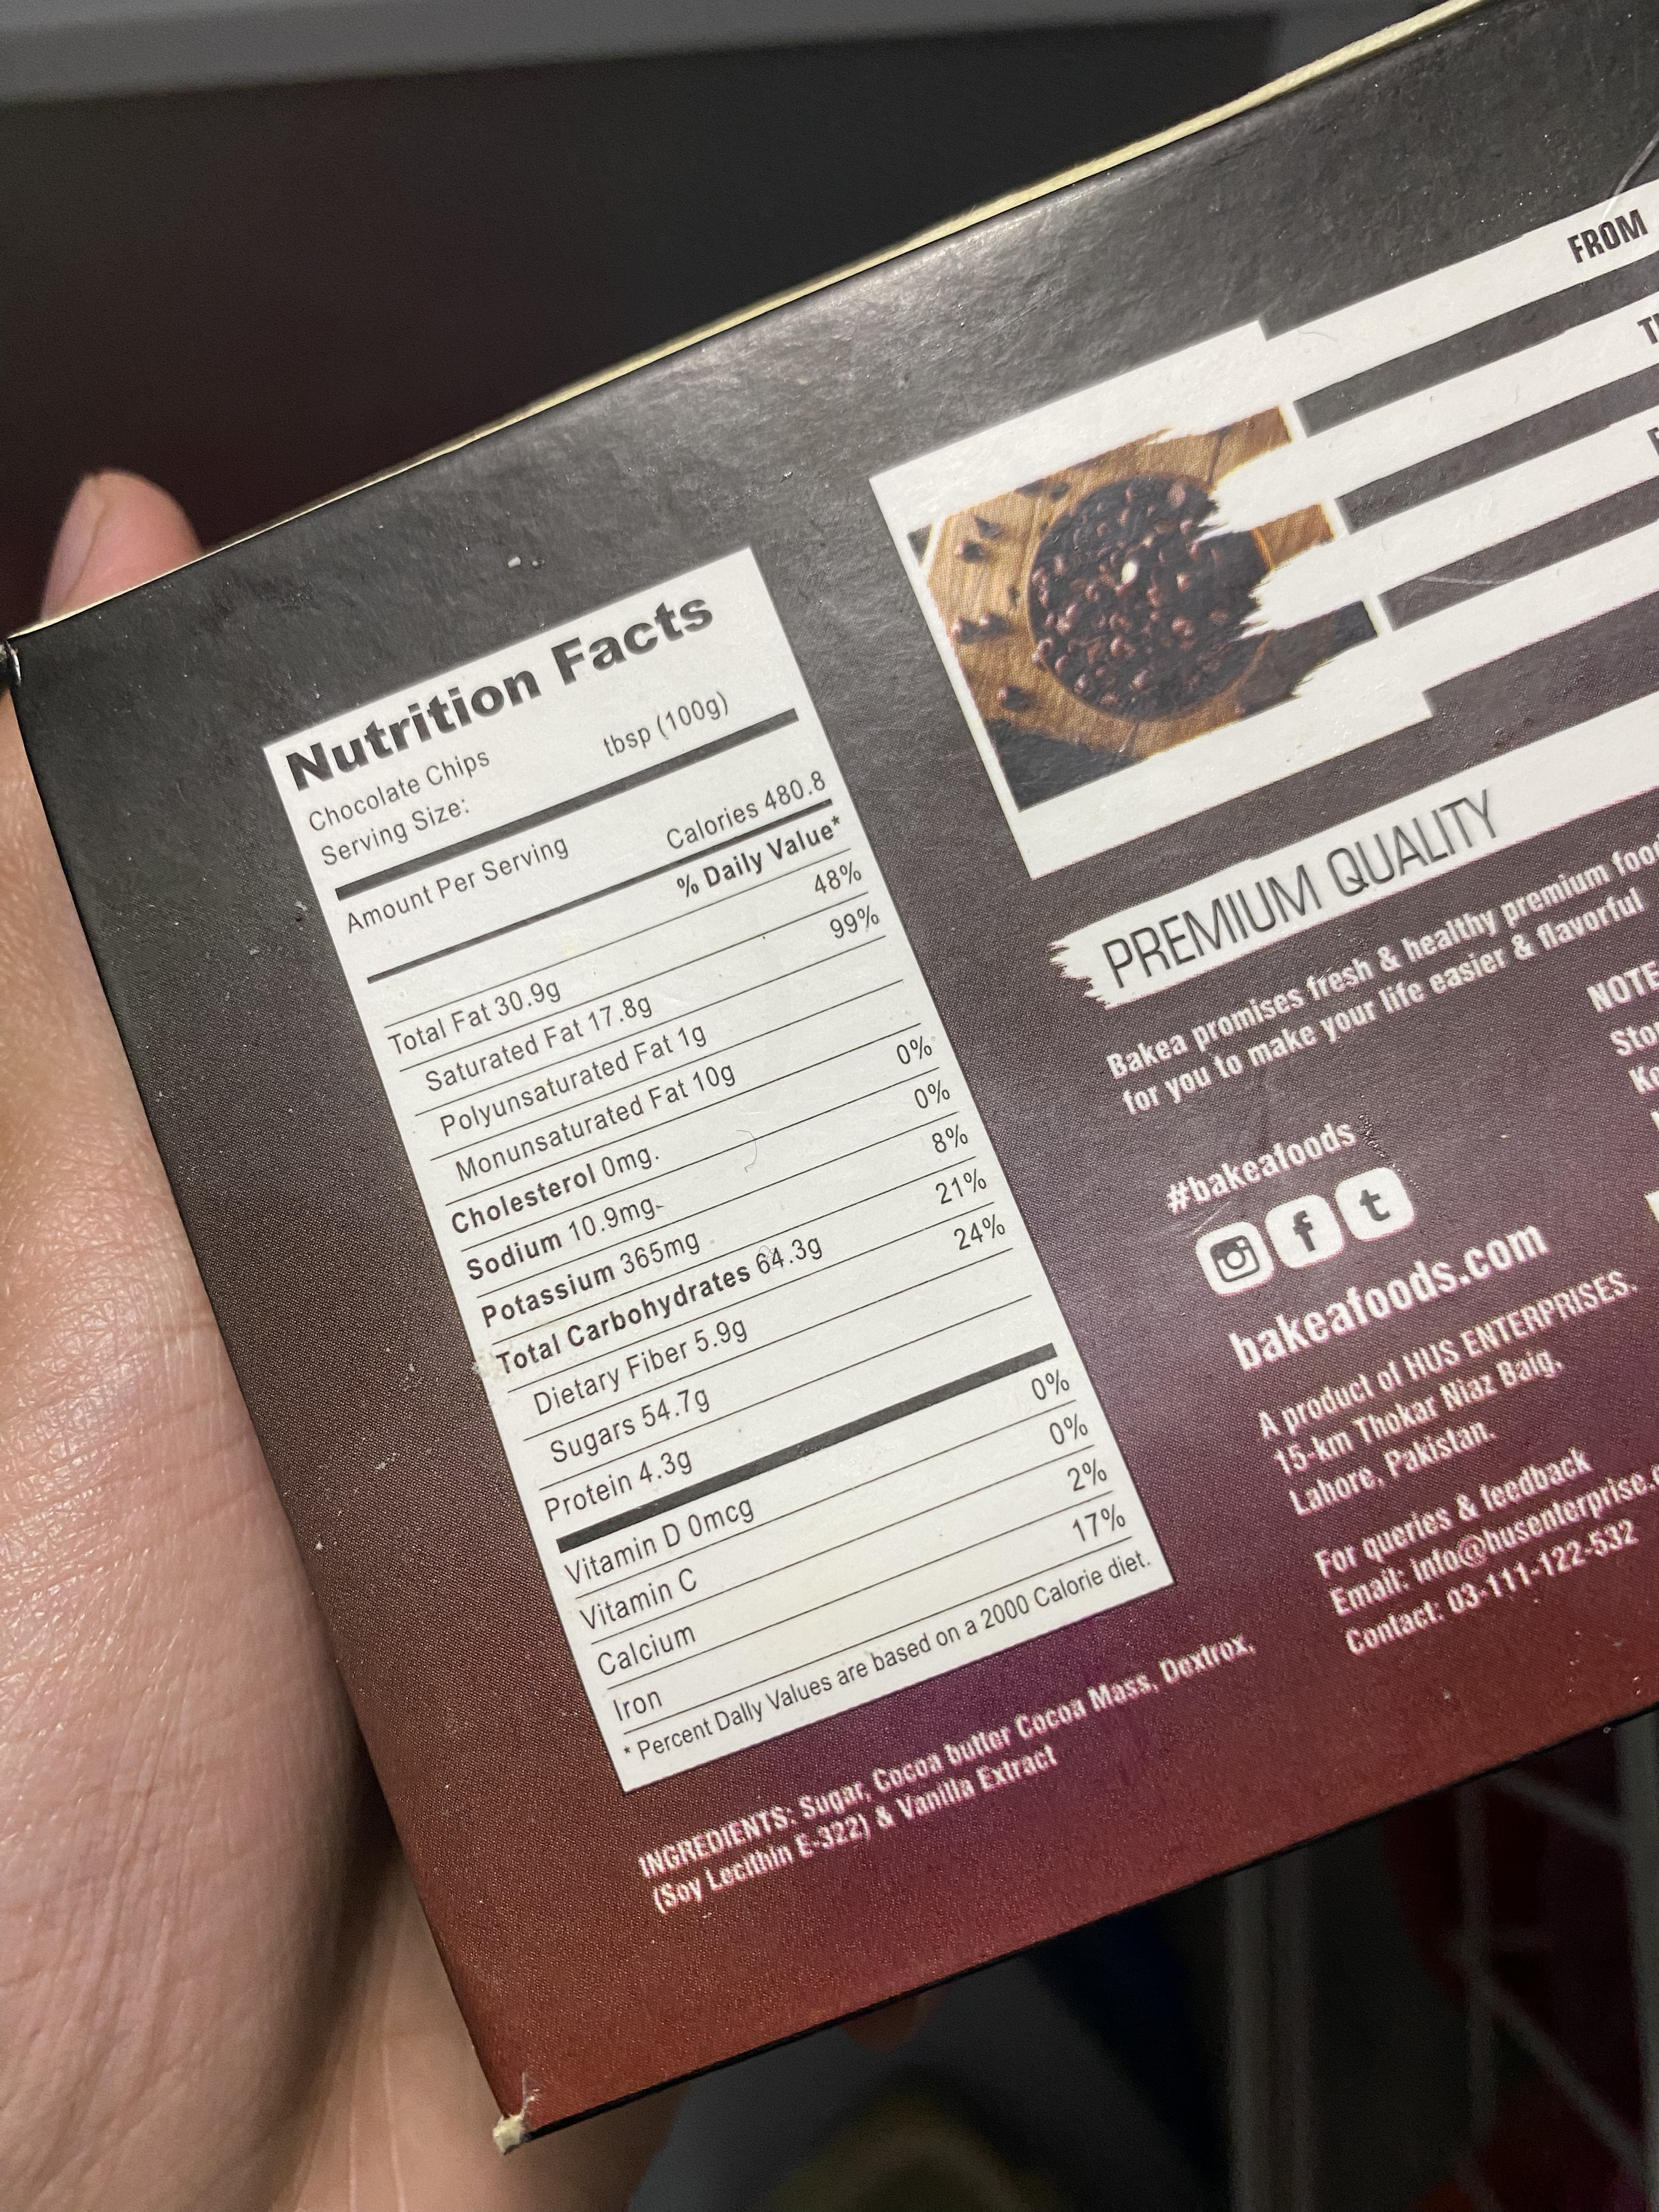table: (258, 533, 1190, 1806)
